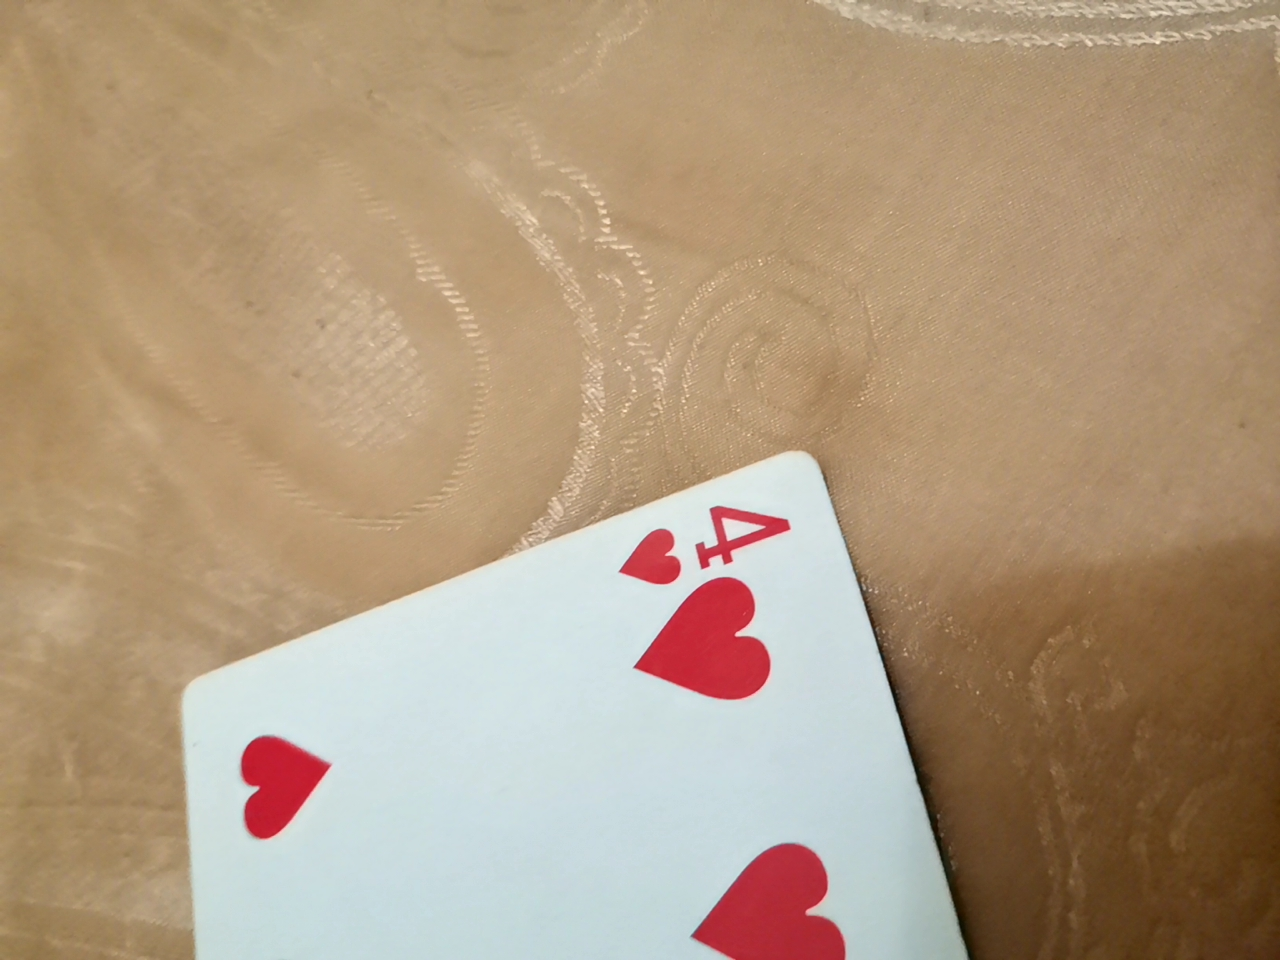hx 4: (152, 450, 999, 950)
